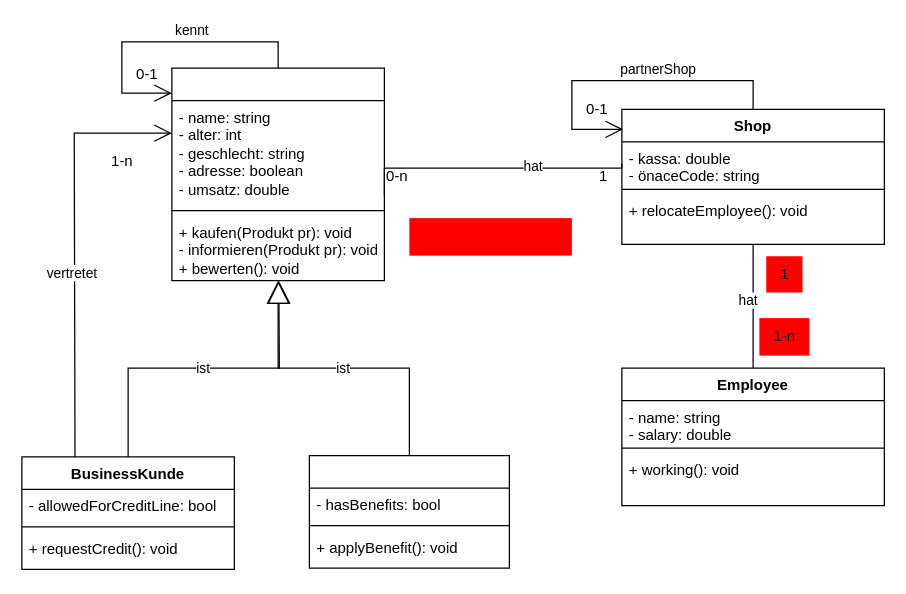
Image size: 906x594. Some labels were removed from this diagram. Each missing label, with the box of its shape:
Kunde: (171, 67, 384, 281)
Produkt ist ein Enum: (409, 218, 571, 255)
RetailKunde: (308, 454, 509, 568)
